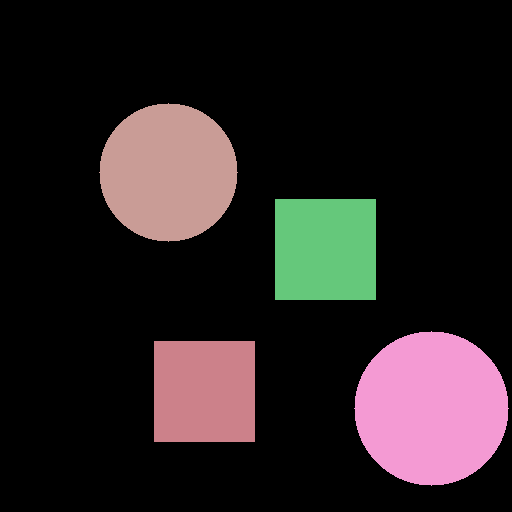circle: (354, 331, 508, 485), (99, 103, 237, 241)
square: (154, 341, 254, 441), (275, 199, 375, 299)
